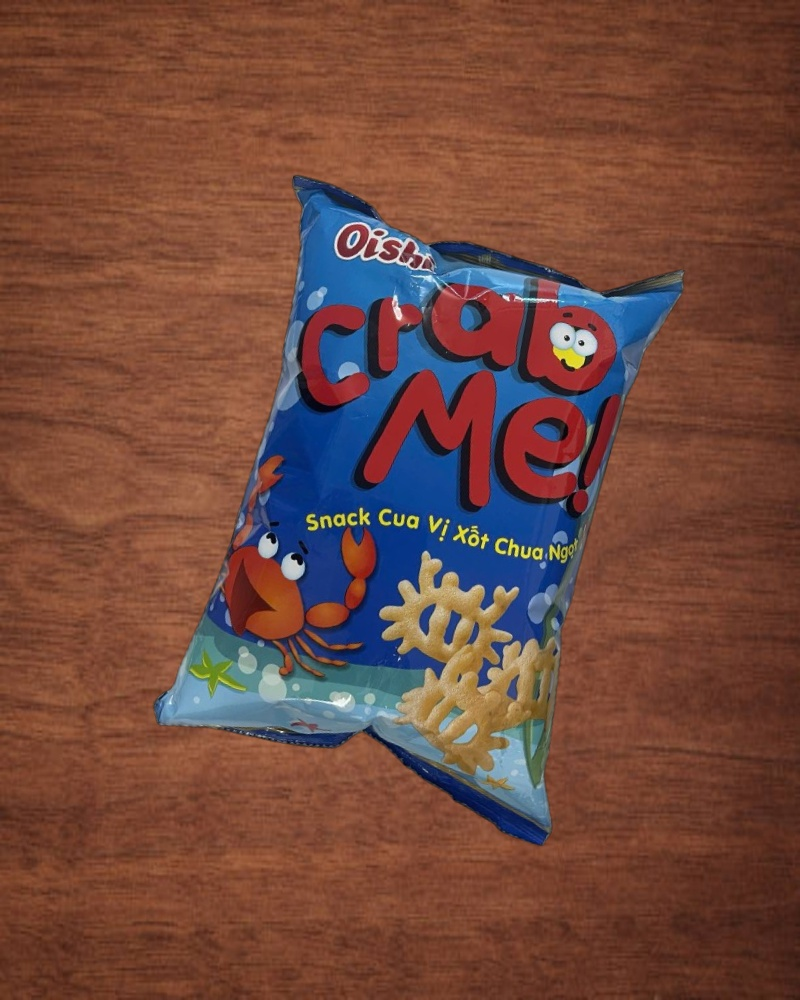Snack cua: (145, 168, 700, 842)
